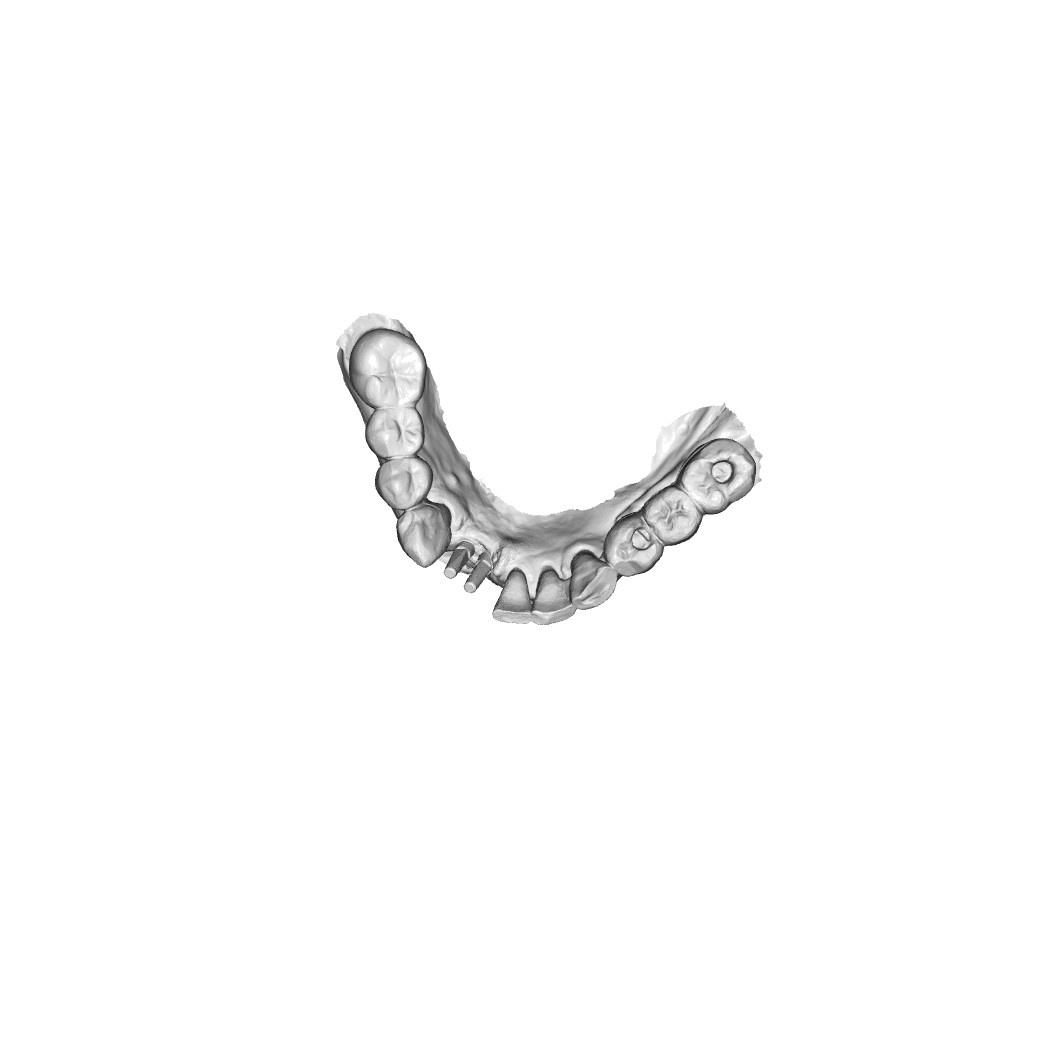abutment: (460, 553, 501, 597), (439, 537, 475, 581)
canine: (395, 505, 450, 573), (569, 551, 620, 613)
incisor: (494, 564, 537, 623), (534, 572, 578, 625)
molar: (676, 436, 761, 520), (346, 327, 426, 412)
premolar: (361, 404, 429, 465), (643, 484, 706, 549), (604, 517, 663, 578), (376, 455, 438, 511)
